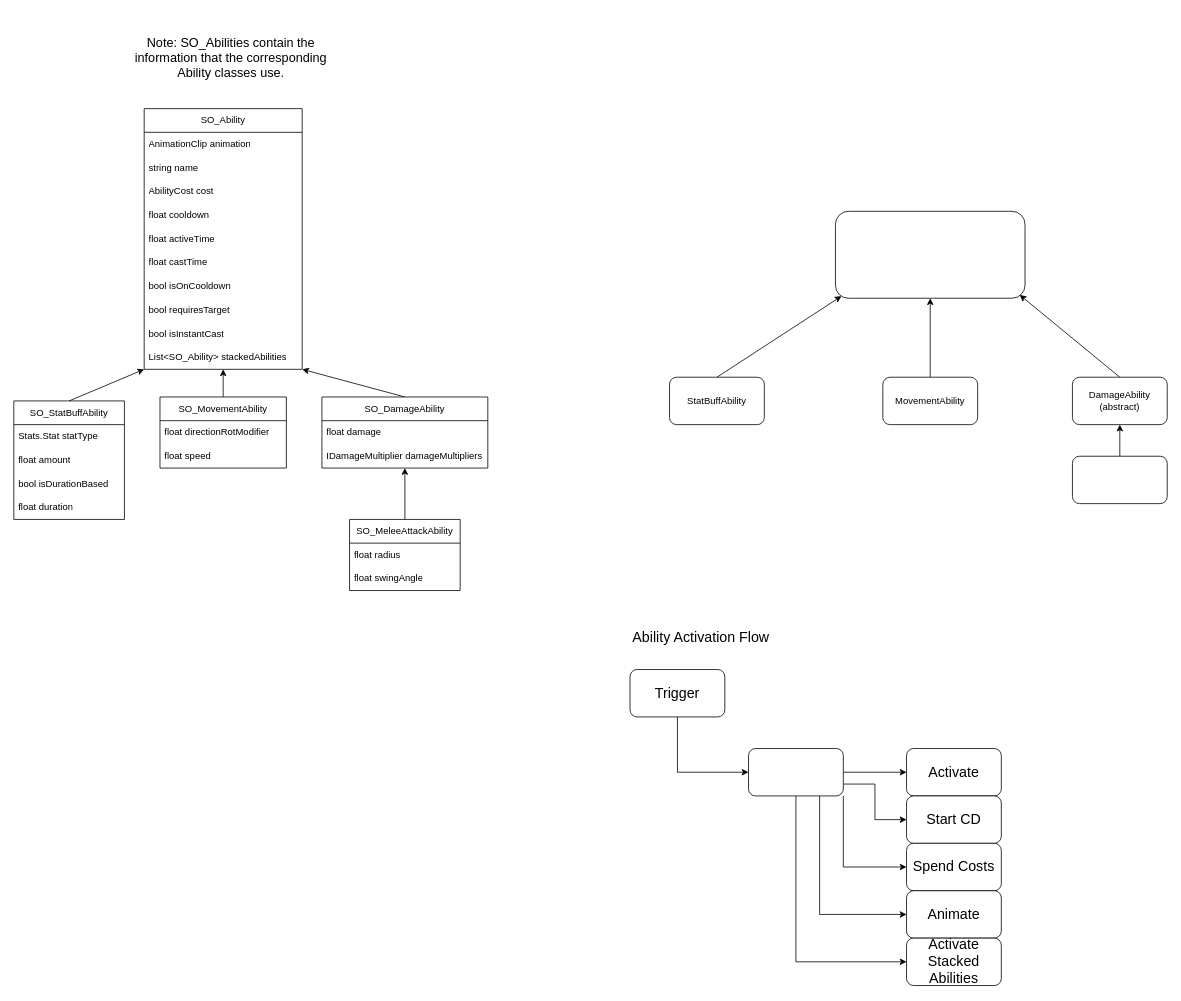
Image size: 1181x1001. Some labels were removed from this diagram. Here are the shapes that lost their labels. From the top down, the centre of each, then its label:
At [930,254]: "Ability (abstract)".
At [1119,479]: "MeleeAttackAbility".
At [795,772]: "Verify Constraints".
